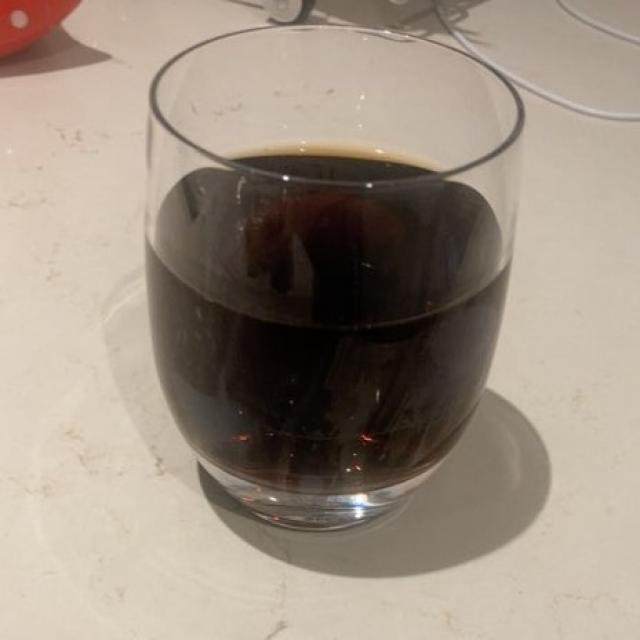coca-cola: (158, 154, 483, 501)
